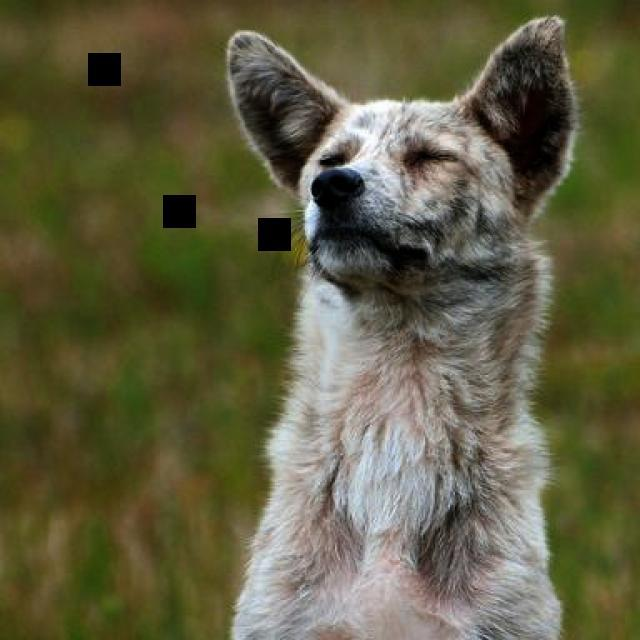adult_dog: (223, 16, 582, 640)
